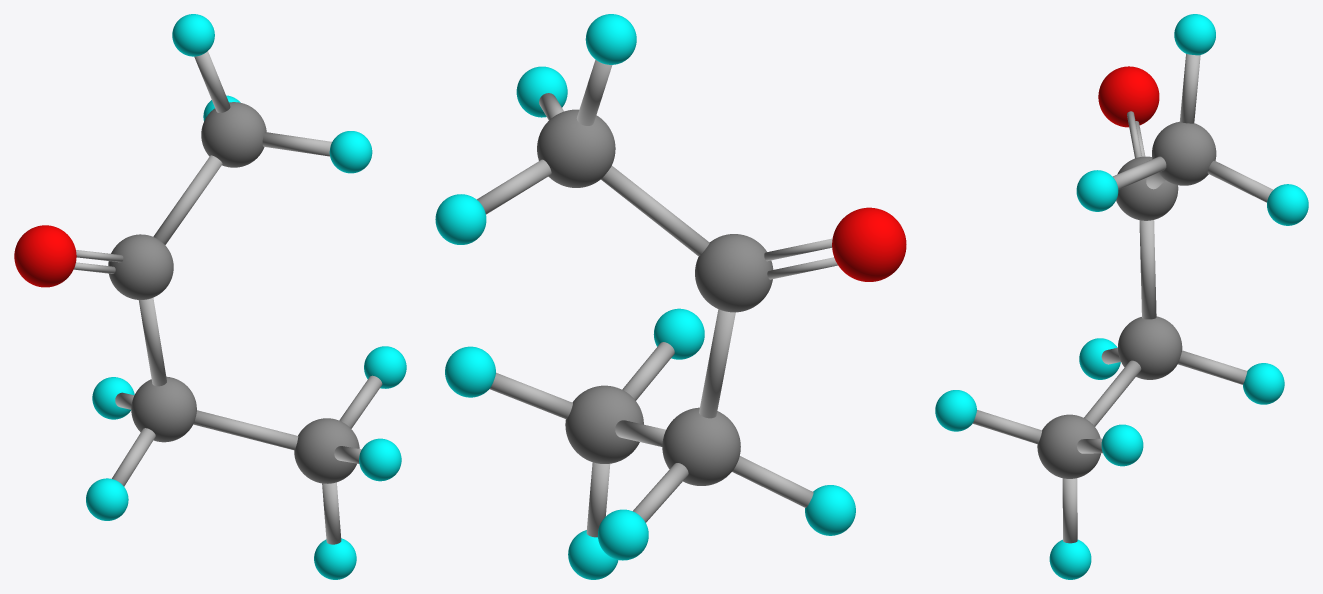
The model's file is ethyl methyl ketone.glb.
3 renders of one model, left to right at view 1: azimuth 30°, elevation 25°; view 2: azimuth 150°, elevation 25°; view 3: azimuth 270°, elevation 25°, orthographic. The views are drawn at different scales.
Parts seen in each view (by area): view 1: CMAtom_0; view 2: CMAtom_0; view 3: CMAtom_0.
Part boxes in pixels (<box>): CMAtom_0: <box>14,14,406,579</box>; CMAtom_0: <box>435,14,906,579</box>; CMAtom_0: <box>935,14,1308,579</box>.
Bounding box in the file's own units: 0.414 × 0.5537 × 0.3573.
